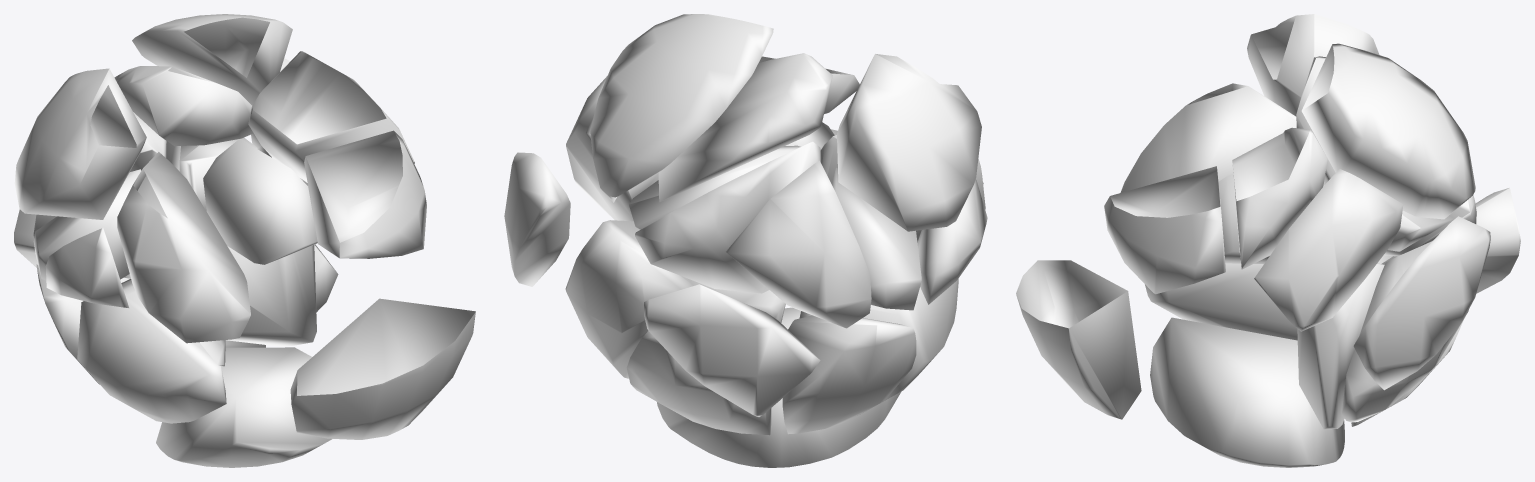
The model's file is abstractball8.glb.
3 views of the same model, side by side, from view 1: azimuth 30°, elevation 25°; view 2: azimuth 150°, elevation 25°; view 3: azimuth 270°, elevation 25° (orthographic). The views are drawn at different scales.
Parts seen in each view (by area): view 1: Voronoi_Fracture.8; view 2: Voronoi_Fracture.8; view 3: Voronoi_Fracture.8.
Part boxes in pixels (left/top/right/bottom): Voronoi_Fracture.8: left=14, top=14, right=475, bottom=467; Voronoi_Fracture.8: left=504, top=14, right=987, bottom=467; Voronoi_Fracture.8: left=1016, top=14, right=1520, bottom=467.
Size of what is drawn, in the model's own units: 3.19 by 3.28 by 3.8.
1 material, 1 textured.
